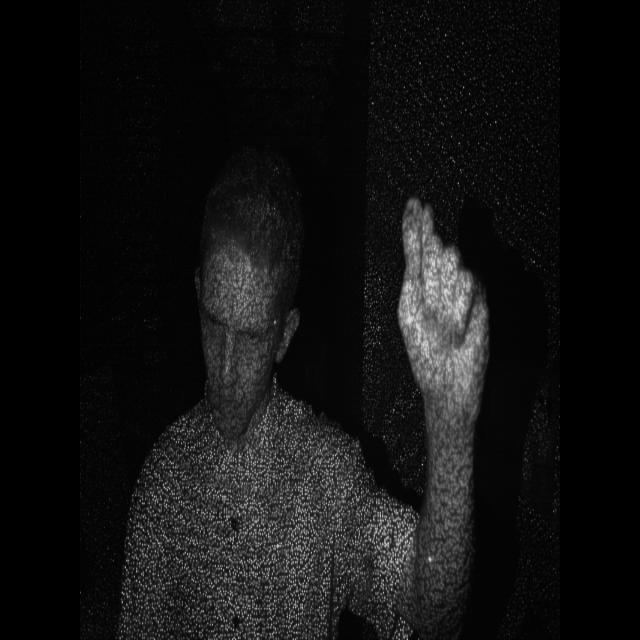T: (395, 187, 495, 451)
